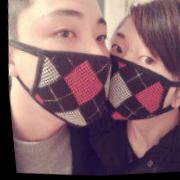OK: (95, 30, 180, 130)
WRONG: (15, 1, 120, 133)
